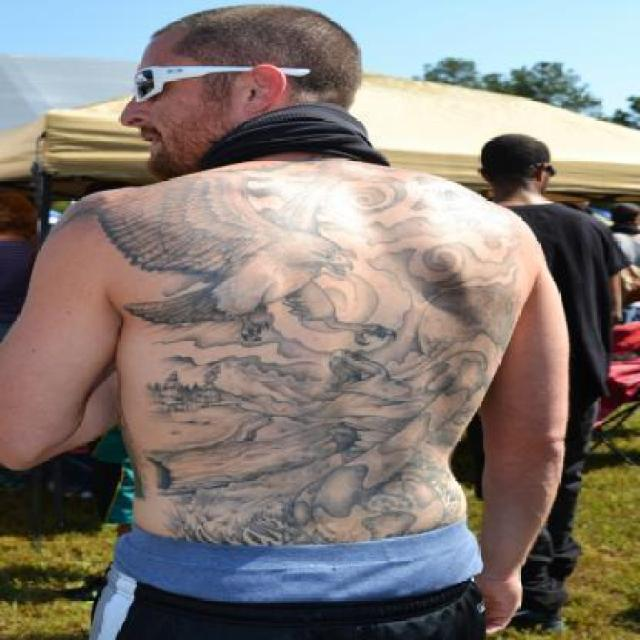face_nomask: (111, 58, 182, 168)
glasses: (130, 65, 316, 101)
head_nohelmet: (129, 0, 323, 49)
person: (18, 7, 553, 640)
